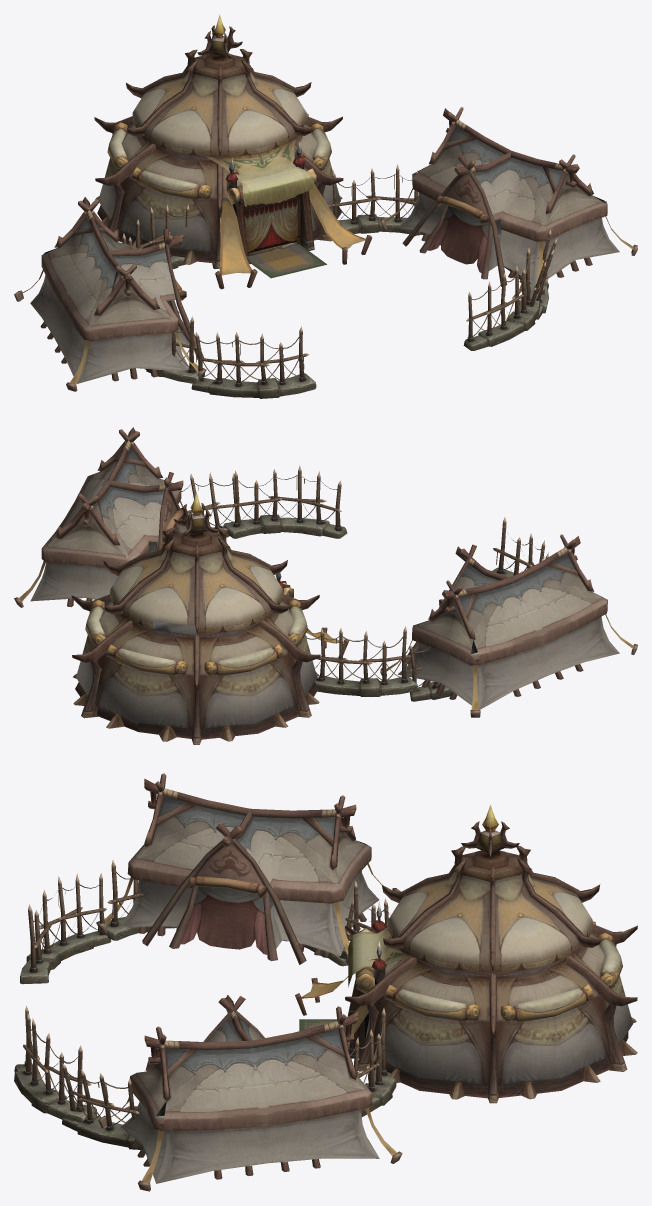
The model's file is zc_anquanqu_1_55_59_3758out.fbx.
3 views of the same model, one above another, from view 1: azimuth 30°, elevation 25°; view 2: azimuth 150°, elevation 25°; view 3: azimuth 270°, elevation 25° (orthographic). The views are drawn at different scales.
Visible parts, largest first — view 1: jz_zhangpeng01, jz_zhangpeng02, yw_luoyegu_zhalan01; view 2: jz_zhangpeng01, jz_zhangpeng02, yw_luoyegu_zhalan01; view 3: jz_zhangpeng02, jz_zhangpeng01, yw_luoyegu_zhalan01.
Part boxes in pixels (x1=…): jz_zhangpeng01: x1=94, y1=14, x2=372, y2=289; jz_zhangpeng02: x1=14, y1=107, x2=637, y2=391; yw_luoyegu_zhalan01: x1=122, y1=164, x2=557, y2=398; jz_zhangpeng01: x1=71, y1=492, x2=348, y2=744; jz_zhangpeng02: x1=14, y1=427, x2=637, y2=717; yw_luoyegu_zhalan01: x1=126, y1=465, x2=548, y2=701; jz_zhangpeng02: x1=96, y1=773, x2=402, y2=1191; jz_zhangpeng01: x1=295, y1=804, x2=637, y2=1103; yw_luoyegu_zhalan01: x1=14, y1=854, x2=396, y2=1149.
Size of the model in its own units: 22.24 by 7.94 by 17.9.
